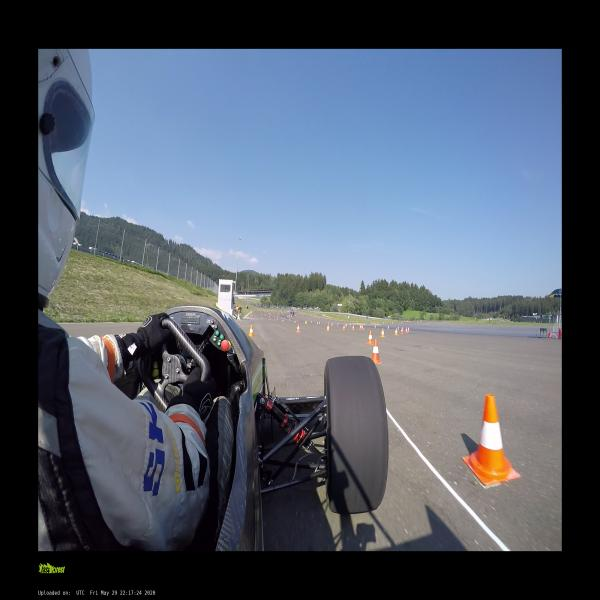orange_cone: (462, 394, 521, 484), (370, 339, 382, 363), (366, 330, 373, 345), (248, 325, 255, 336), (380, 328, 385, 338), (295, 324, 300, 333), (394, 328, 398, 335), (400, 327, 403, 334), (361, 325, 364, 330), (407, 327, 410, 332), (343, 324, 345, 330), (327, 325, 329, 331), (352, 324, 354, 330), (359, 325, 361, 330), (405, 327, 407, 332), (397, 325, 399, 330), (387, 325, 389, 329), (331, 323, 333, 326), (375, 325, 376, 328)
